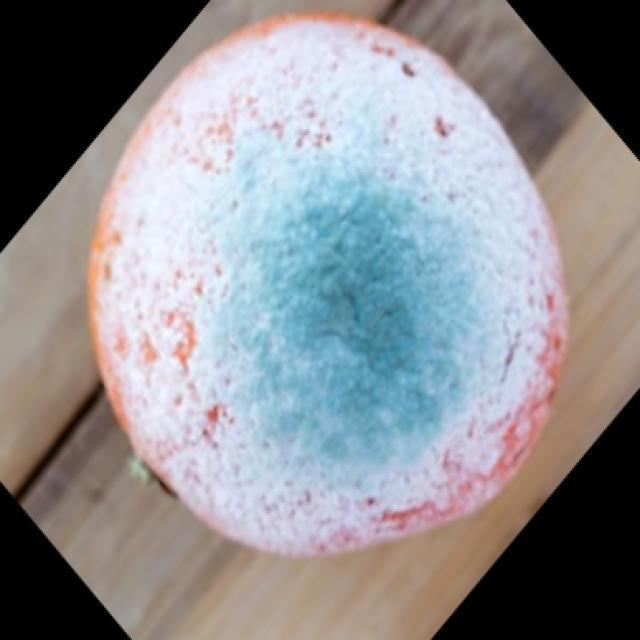sangat-busuk: (90, 14, 566, 554)
